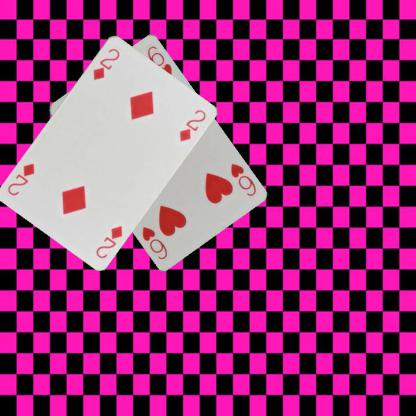2d: (93, 223, 124, 260), (90, 45, 121, 81)
6h: (227, 160, 257, 198)
